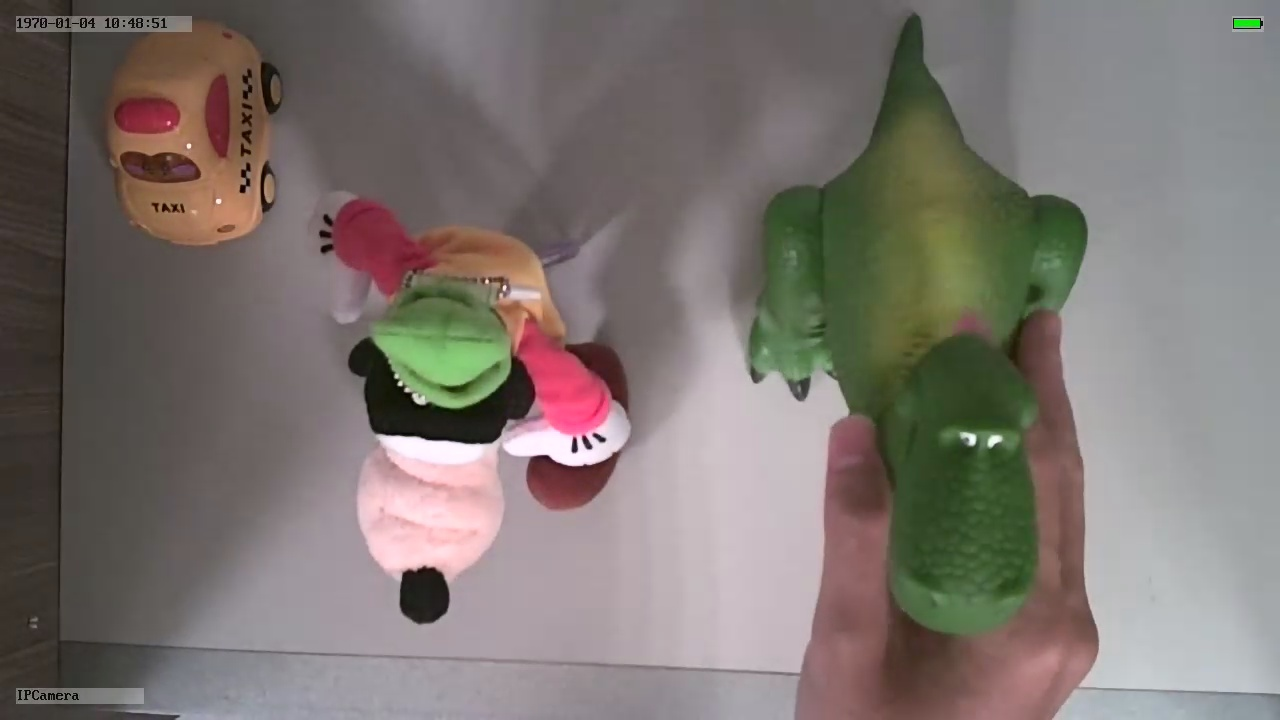car: (98, 30, 282, 248)
goofy: (307, 187, 631, 634)
